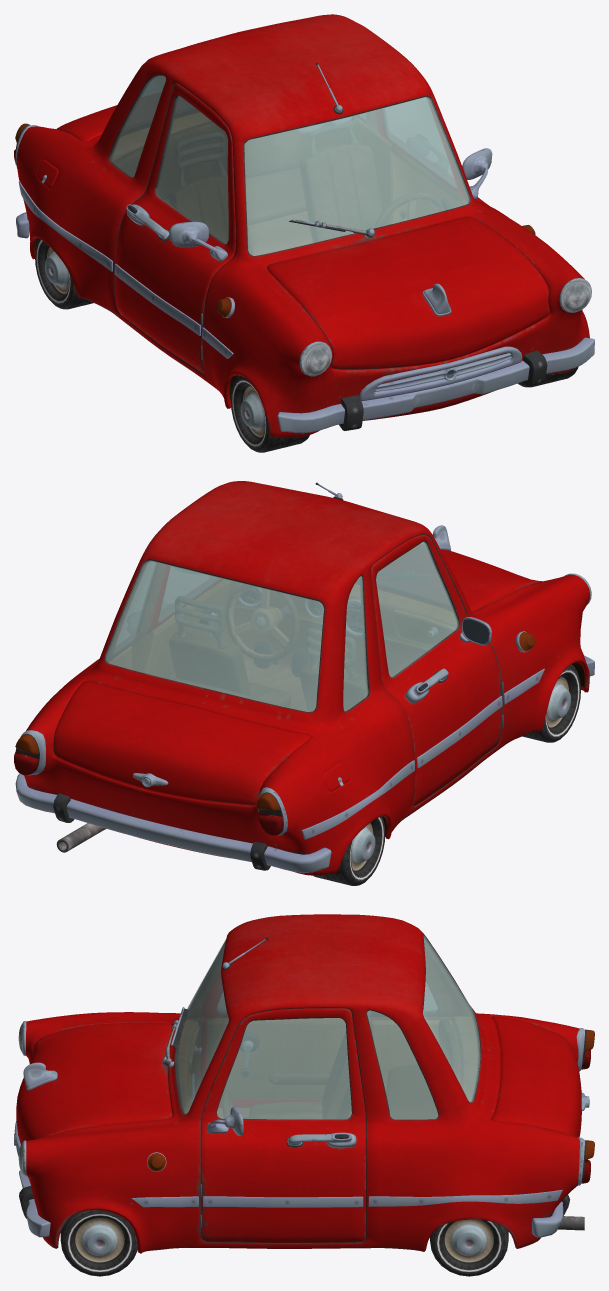
Rendered from Car_Cartoon6_00001.FBX.
3 views of the same model, one above another, from view 1: azimuth 30°, elevation 25°; view 2: azimuth 150°, elevation 25°; view 3: azimuth 270°, elevation 25° (orthographic). The views are drawn at different scales.
Parts seen in each view (by area): view 1: car_C6_00, Door_Right, Glass_Right, Door_Left, Glass_Left, wheel_front_right, wheel_rear_right; view 2: car_C6_00, Door_Right, Glass_Right, Door_Left, wheel_rear_right, wheel_front_right, Glass_Left; view 3: car_C6_00, Door_Left, Glass_Left, Door_Right, wheel_front_left, wheel_rear_left.
Part boxes in pixels (<box>): car_C6_00: <box>14,14,594,437</box>; Door_Right: <box>114,83,235,373</box>; Glass_Right: <box>156,96,228,243</box>; Door_Left: <box>377,101,492,218</box>; Glass_Left: <box>385,98,455,186</box>; wheel_front_right: <box>230,375,309,452</box>; wheel_rear_right: <box>35,238,93,309</box>; car_C6_00: <box>14,481,594,875</box>; Door_Right: <box>371,534,503,805</box>; Glass_Right: <box>376,541,458,677</box>; Door_Left: <box>132,565,231,677</box>; wheel_rear_right: <box>313,816,385,885</box>; wheel_front_right: <box>522,664,580,742</box>; Glass_Left: <box>159,567,216,619</box>; car_C6_00: <box>14,914,594,1253</box>; Door_Left: <box>200,1008,365,1242</box>; Glass_Left: <box>217,1018,351,1119</box>; Door_Right: <box>201,970,345,1107</box>; wheel_front_left: <box>60,1210,137,1276</box>; wheel_rear_left: <box>430,1219,508,1276</box>.
Bounding box in the file's own units: 247 × 204 × 400.
